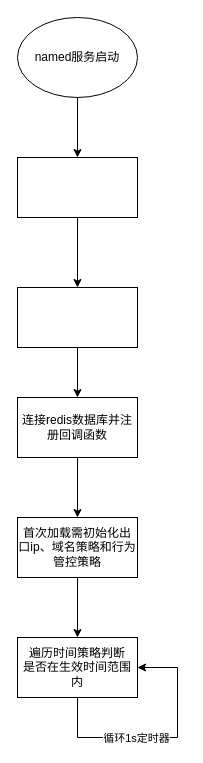
This 203x763 diagram has some shape labels left out. Each missing label, with the box of its shape:
创建redis子线程: (16, 156, 138, 218)
加载威胁情报库和域名标签库: (16, 286, 138, 348)
